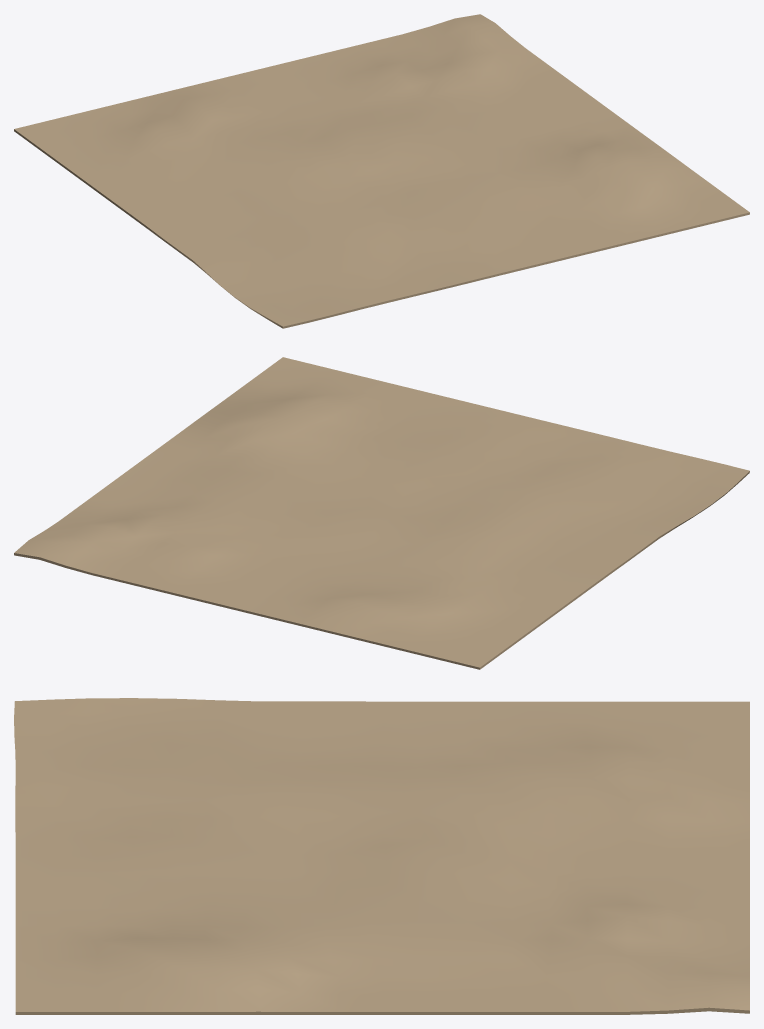
File: egypt_ground.fbx
3 renders of one model, top to bottom at view 1: azimuth 30°, elevation 25°; view 2: azimuth 150°, elevation 25°; view 3: azimuth 270°, elevation 25°, orthographic. The views are drawn at different scales.
Visible parts, largest first — view 1: ground; view 2: ground; view 3: ground.
Part boxes in pixels (left/top/right/bottom): ground: left=14, top=14, right=749, bottom=328; ground: left=14, top=357, right=749, bottom=669; ground: left=14, top=698, right=749, bottom=1014.
Bounding box in the file's own units: 76.68 × 2.08 × 75.86.
